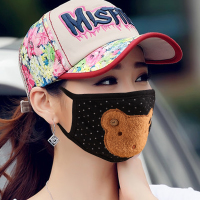face_mask: (66, 40, 154, 155)
